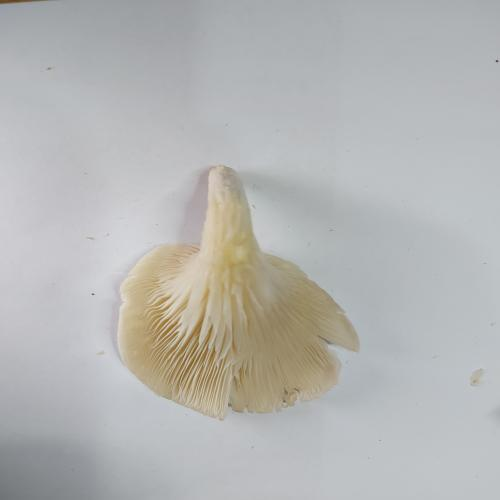Oyster Mushroom: (115, 164, 361, 421)
